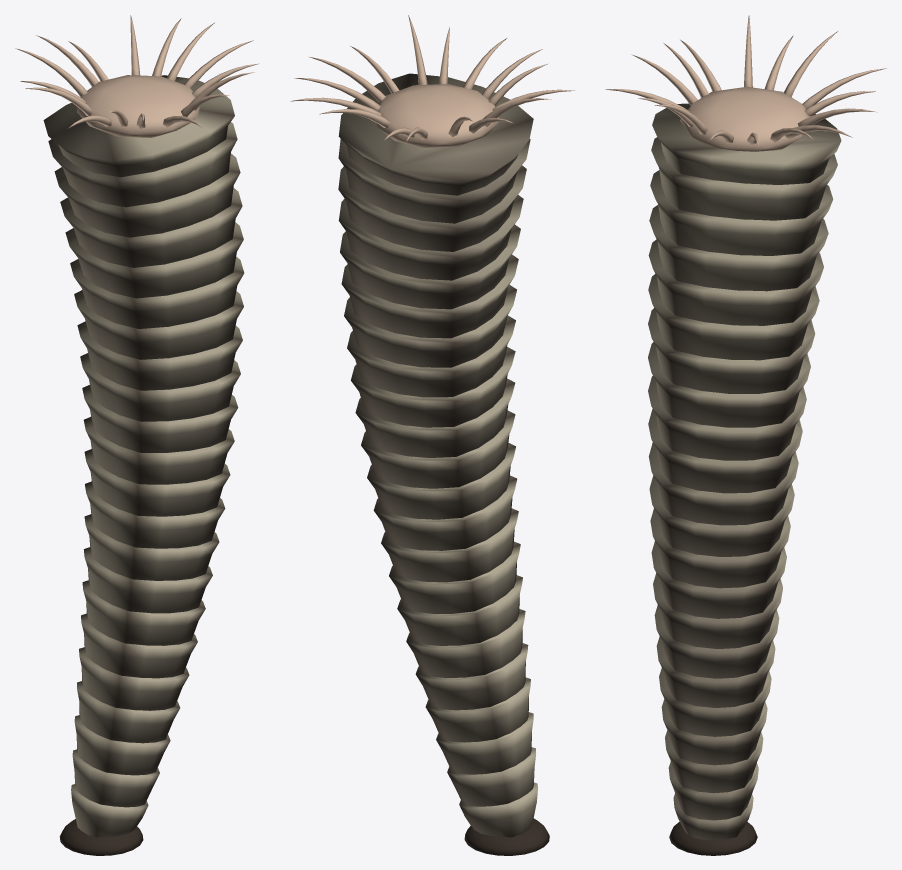
File: Corumbella.fbx
The picture shows the model from 3 angles, left to right: view 1: azimuth 30°, elevation 25°; view 2: azimuth 150°, elevation 25°; view 3: azimuth 270°, elevation 25°; orthographic projection. The views are drawn at different scales.
Visible parts, largest first — view 1: Corumbella; view 2: Corumbella; view 3: Corumbella.
Part boxes in pixels (x1=…): Corumbella: x1=15, y1=15, x2=258, y2=855; Corumbella: x1=290, y1=15, x2=574, y2=855; Corumbella: x1=605, y1=15, x2=886, y2=855.
Bounding box in the file's own units: 0.4255 × 1.31 × 0.4216.
